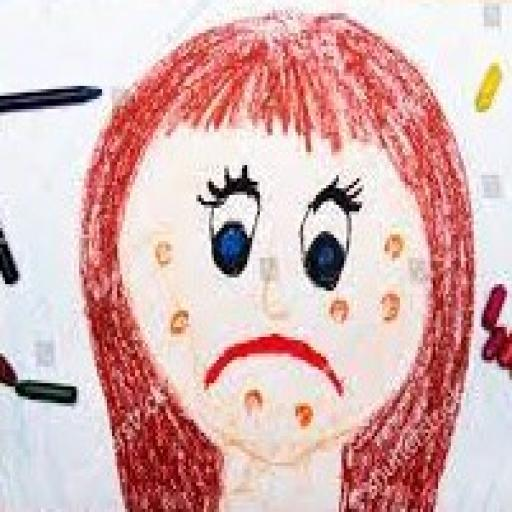person: (76, 20, 479, 512)
